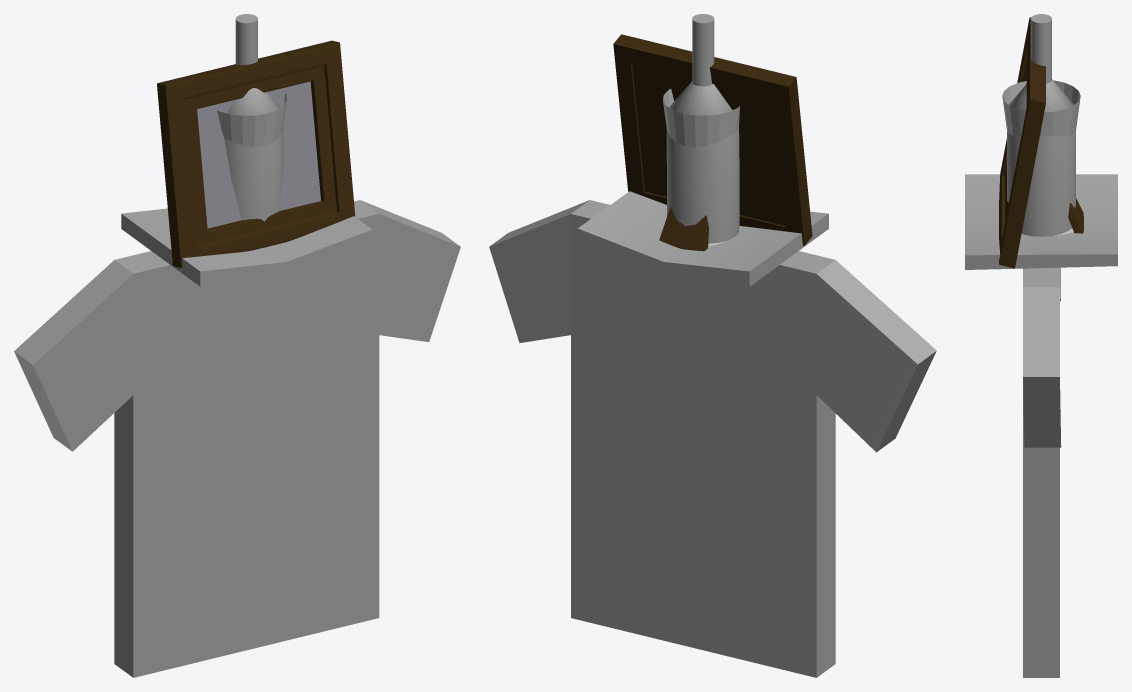
The model's file is Objects_Interactables.fbx.
3 views of the same model, side by side, from view 1: azimuth 30°, elevation 25°; view 2: azimuth 150°, elevation 25°; view 3: azimuth 270°, elevation 25° (orthographic). The views are drawn at different scales.
Parts seen in each view (by area): view 1: ShortSleeve, Desk_Picture_Frame, Wine_Menu, Wine_Bottle, Relic; view 2: ShortSleeve, Desk_Picture_Frame, Wine_Menu, Wine_Bottle, Relic; view 3: ShortSleeve, Wine_Menu, Wine_Bottle, Desk_Picture_Frame, Relic.
Part boxes in pixels (x1,y1,x2,y2): ShortSleeve: (14,200,460,677); Desk_Picture_Frame: (157,40,355,267); Wine_Menu: (121,208,372,286); Wine_Bottle: (224,14,283,221); Relic: (217,94,286,247); ShortSleeve: (489,200,936,677); Desk_Picture_Frame: (613,34,812,251); Wine_Menu: (577,191,828,286); Wine_Bottle: (666,14,739,243); Relic: (663,89,740,246); ShortSleeve: (1023,267,1061,677); Wine_Menu: (965,174,1117,269); Wine_Bottle: (1007,14,1075,236); Desk_Picture_Frame: (999,17,1083,268); Relic: (1002,80,1080,235).
Size of the model in its own units: 0.7317 by 1.02 by 0.234.
